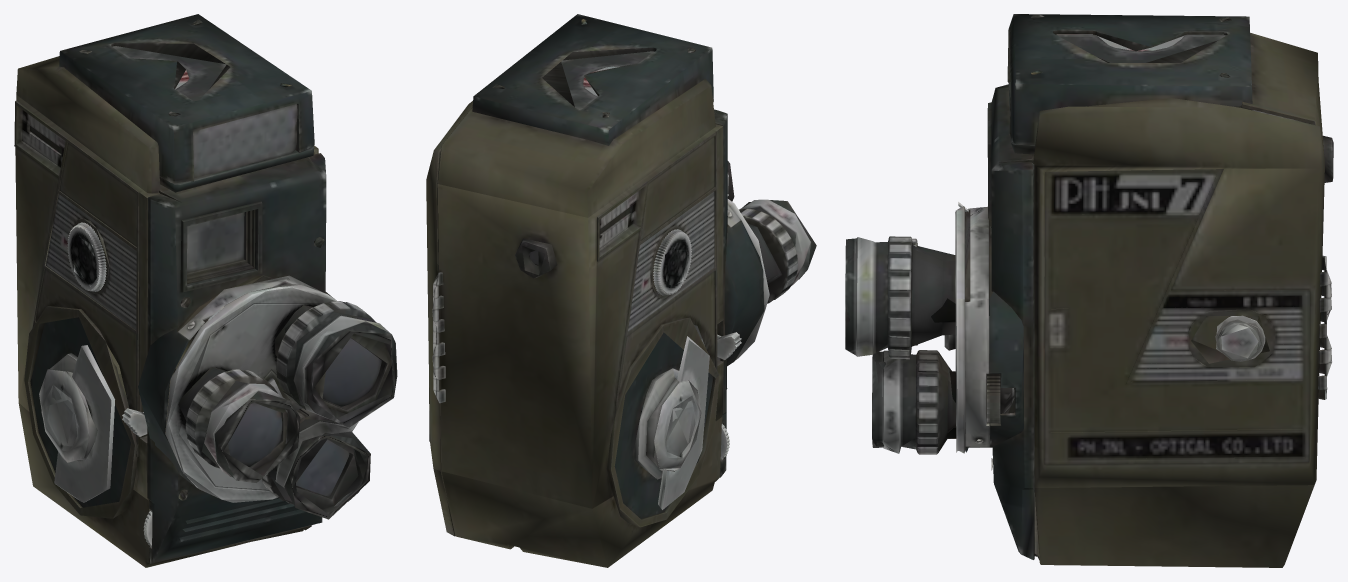
Rendered from vintage_video_camera.glb.
3 views of the same model, side by side, from view 1: azimuth 30°, elevation 25°; view 2: azimuth 150°, elevation 25°; view 3: azimuth 270°, elevation 25° (orthographic). The views are drawn at different scales.
Visible parts, largest first — view 1: vintage_video_camera; view 2: vintage_video_camera; view 3: vintage_video_camera.
Part boxes in pixels (left/top/right/bottom): vintage_video_camera: left=14, top=14, right=397, bottom=567; vintage_video_camera: left=426, top=14, right=816, bottom=567; vintage_video_camera: left=845, top=14, right=1333, bottom=567.
Size of the model in its own units: 0.0712 by 0.1443 by 0.1318.
2 materials, 2 textured.
